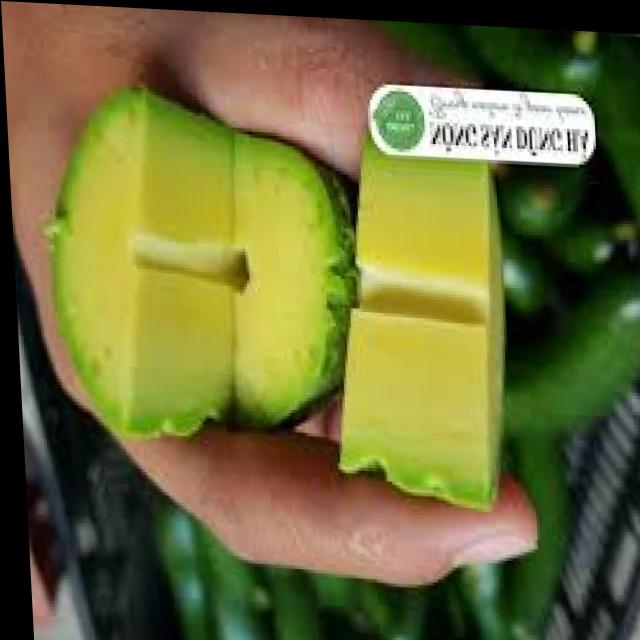Bo: (319, 124, 526, 500), (44, 72, 239, 444), (211, 123, 361, 437)
